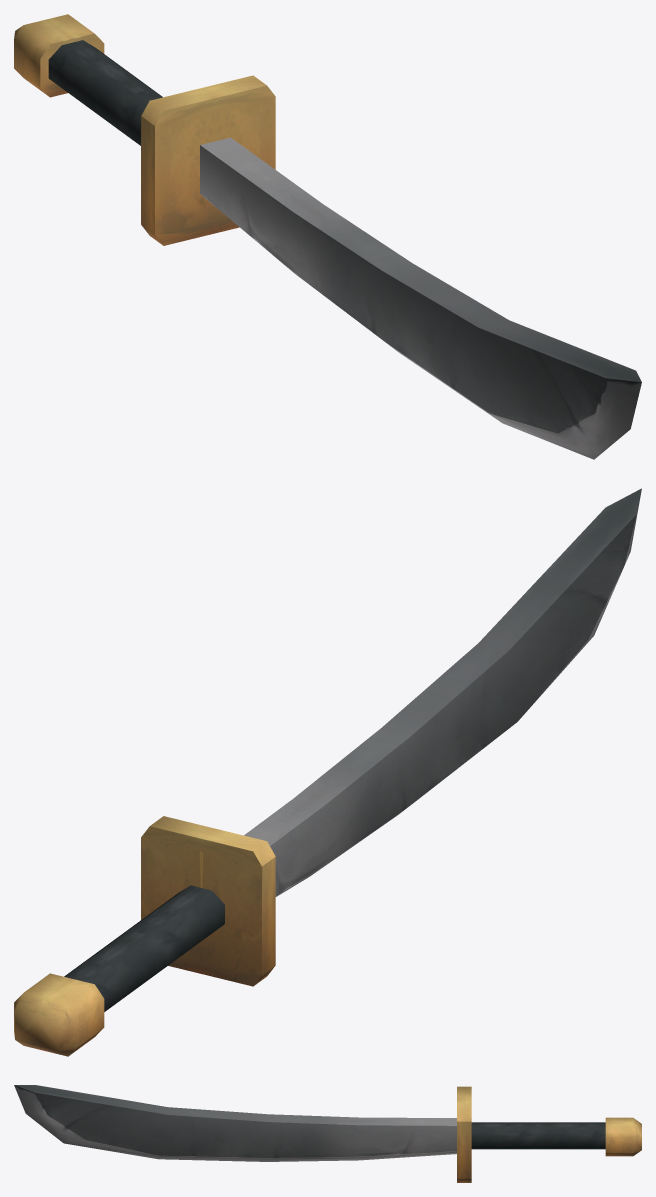
File: cutter01.FBX
3 renders of one model, top to bottom at view 1: azimuth 30°, elevation 25°; view 2: azimuth 150°, elevation 25°; view 3: azimuth 270°, elevation 25°, orthographic. The views are drawn at different scales.
Visible parts, largest first — view 1: cutter001; view 2: cutter001; view 3: cutter001.
Boxes of the visible parts, box(x1,y1,x2,y2) form: cutter001: box(14, 14, 641, 459); cutter001: box(14, 488, 641, 1056); cutter001: box(14, 1085, 641, 1182).
Bounding box in the file's own units: 10.84 × 14 × 93.96.
